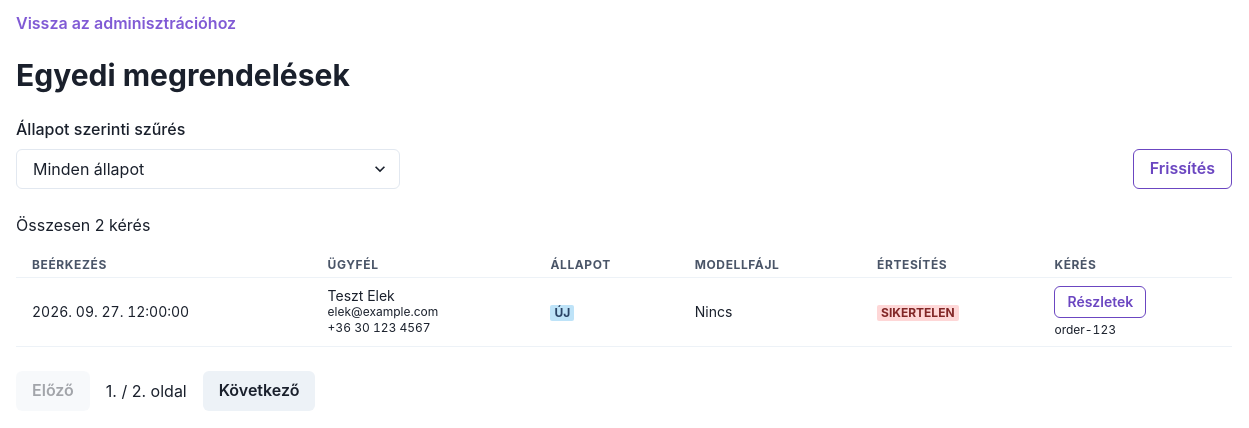
it: returns to the last available page when refreshed results shrink
The width and height of the screenshot is (1249, 428).
Click the button "Következő": coordinates (259, 391) [203, 371, 315, 411]
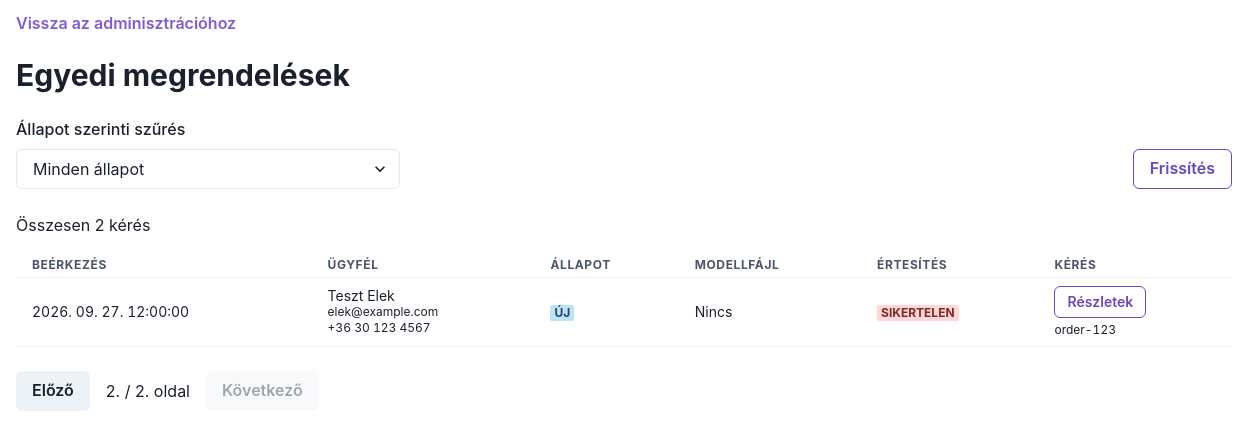
Now the text "2. / 2. oldal" is shown, box [106, 379, 190, 403]
Click the button "Frissítés": coordinates (1182, 169) [1133, 149, 1232, 189]
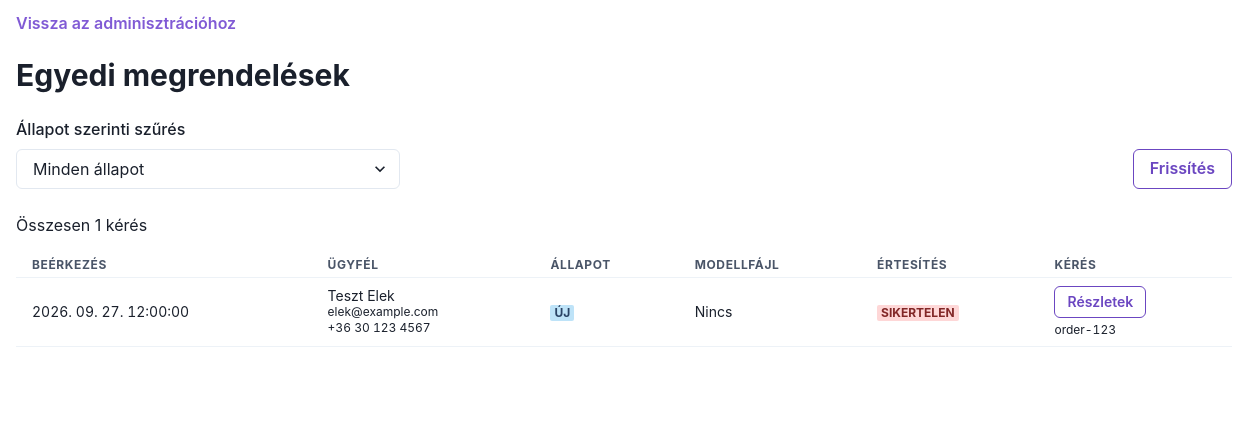
Expected: the text "Teszt Elek" is shown, [328, 287, 395, 304]
Now the text "Összesen 1 kérés" is shown, box [16, 215, 147, 235]
